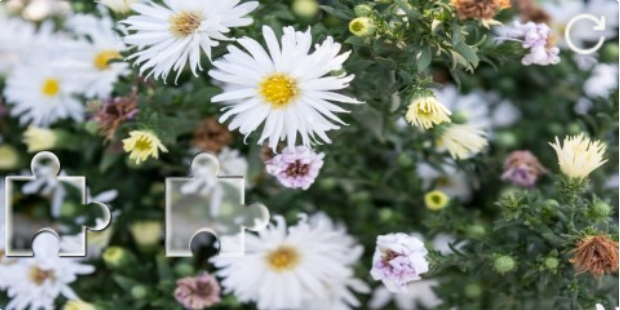target: (165, 152, 269, 256)
